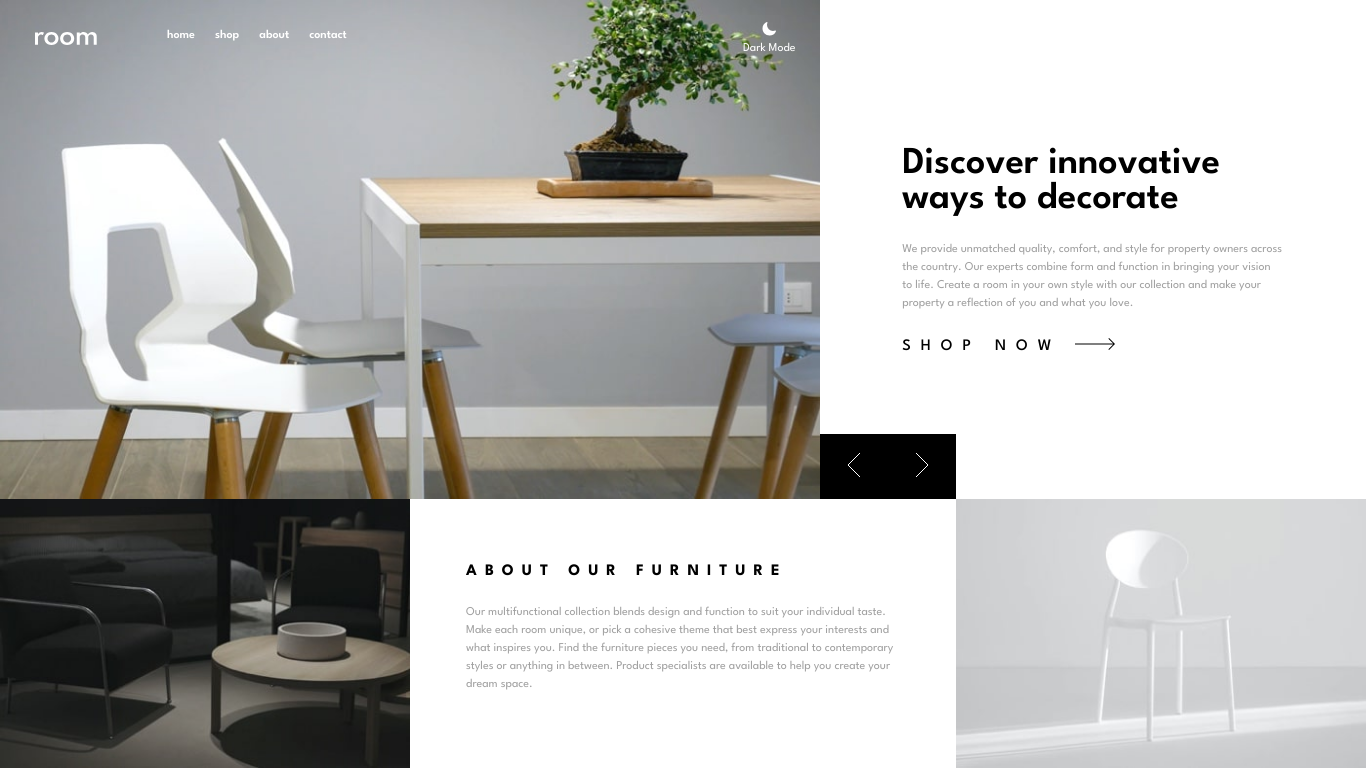
Test case: hero images changes on event › slider changes background image when next and previous buttons are clicked
Expected: the picture with alt text "right arrow" is shown, left=915, top=453, right=929, bottom=477
Expected: the picture with alt text "left arrow" is shown, left=847, top=453, right=861, bottom=477
Click the 3rd button with alt text "right arrow" at (922, 467), box left=888, top=434, right=956, bottom=499
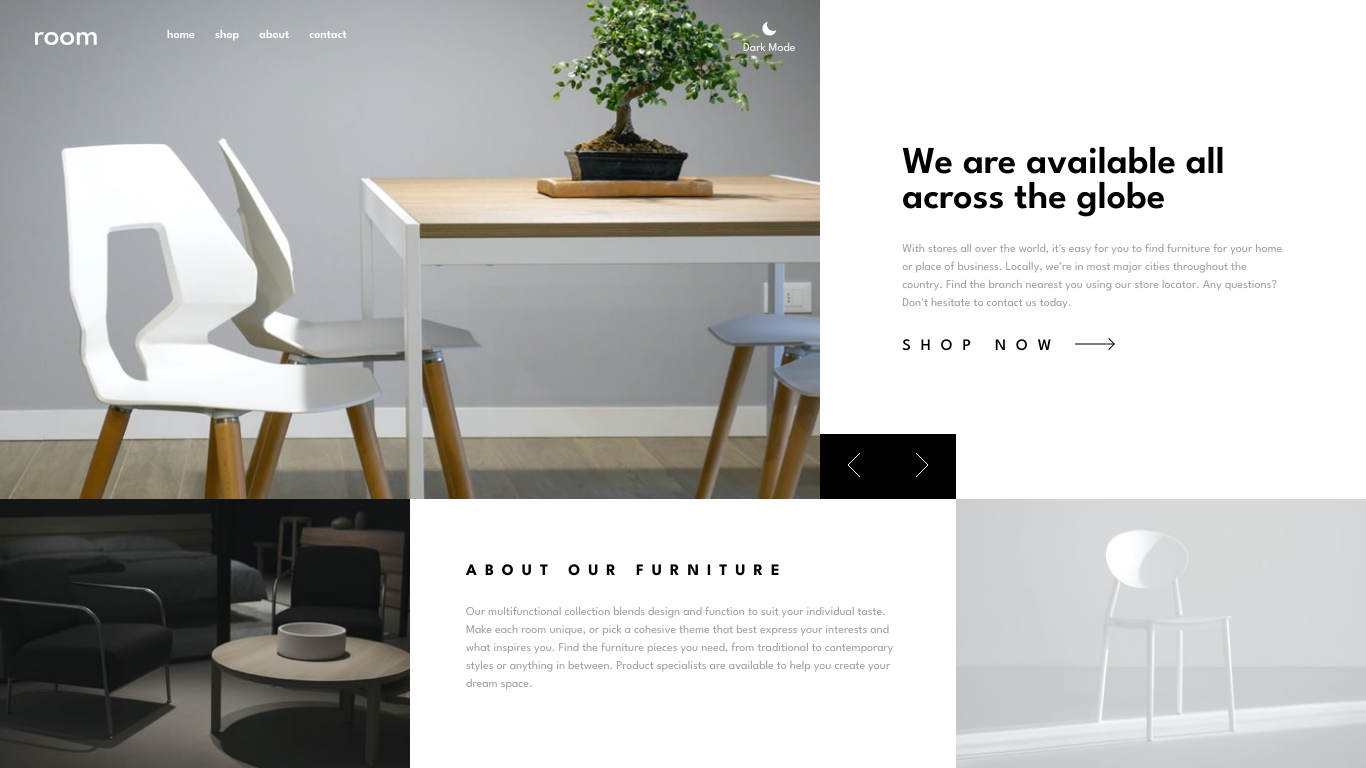
Expected: the heading with test id "heading" reads "We are available all across the globe", left=902, top=146, right=1225, bottom=216
Click the 3rd button with alt text "right arrow" at (922, 467), box left=888, top=434, right=956, bottom=499
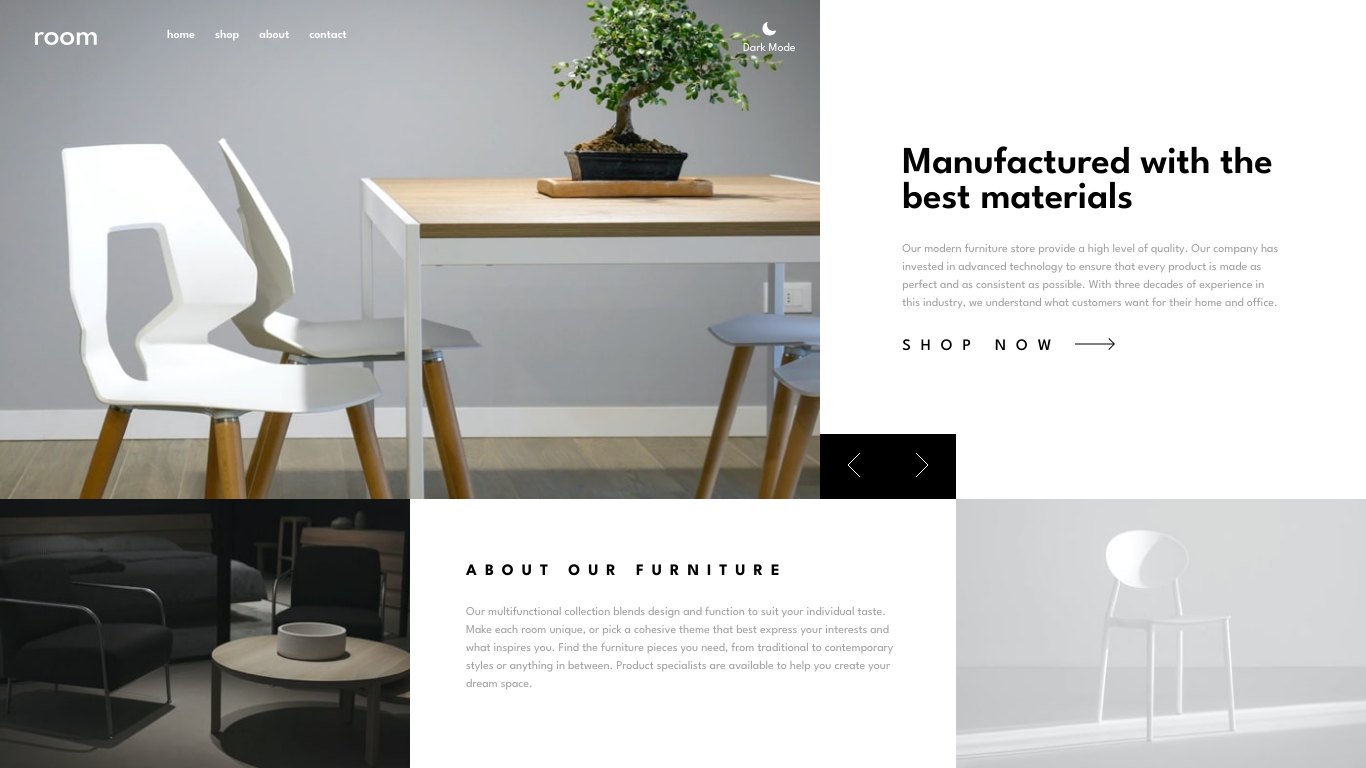
Expected: the heading with test id "heading" reads "Manufactured with the best materials", left=902, top=146, right=1273, bottom=216
Click the 3rd button with alt text "right arrow" at (922, 467), box left=888, top=434, right=956, bottom=499
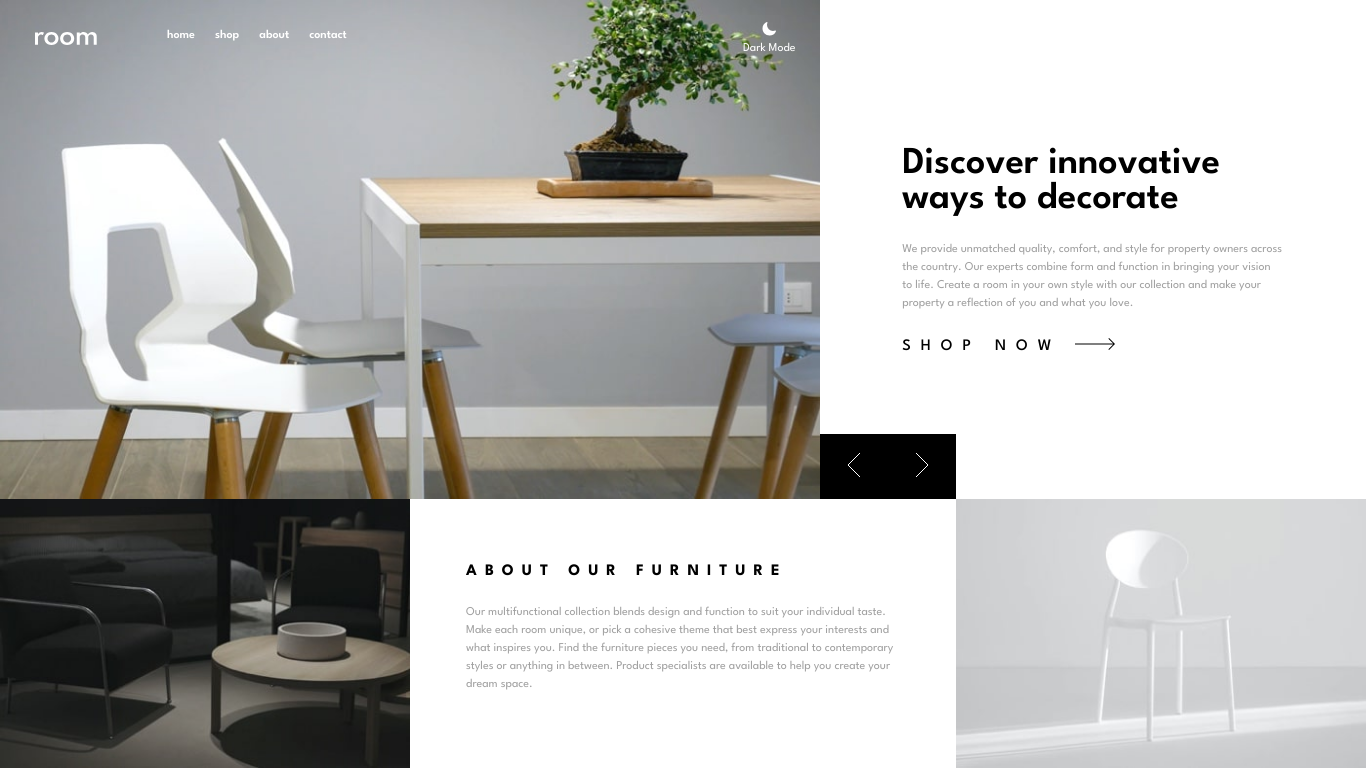
Expected: the heading with test id "heading" reads "Discover innovative ways to decorate", left=902, top=146, right=1220, bottom=216
Click the 2nd button with alt text "left arrow" at (854, 467), box left=820, top=434, right=888, bottom=499
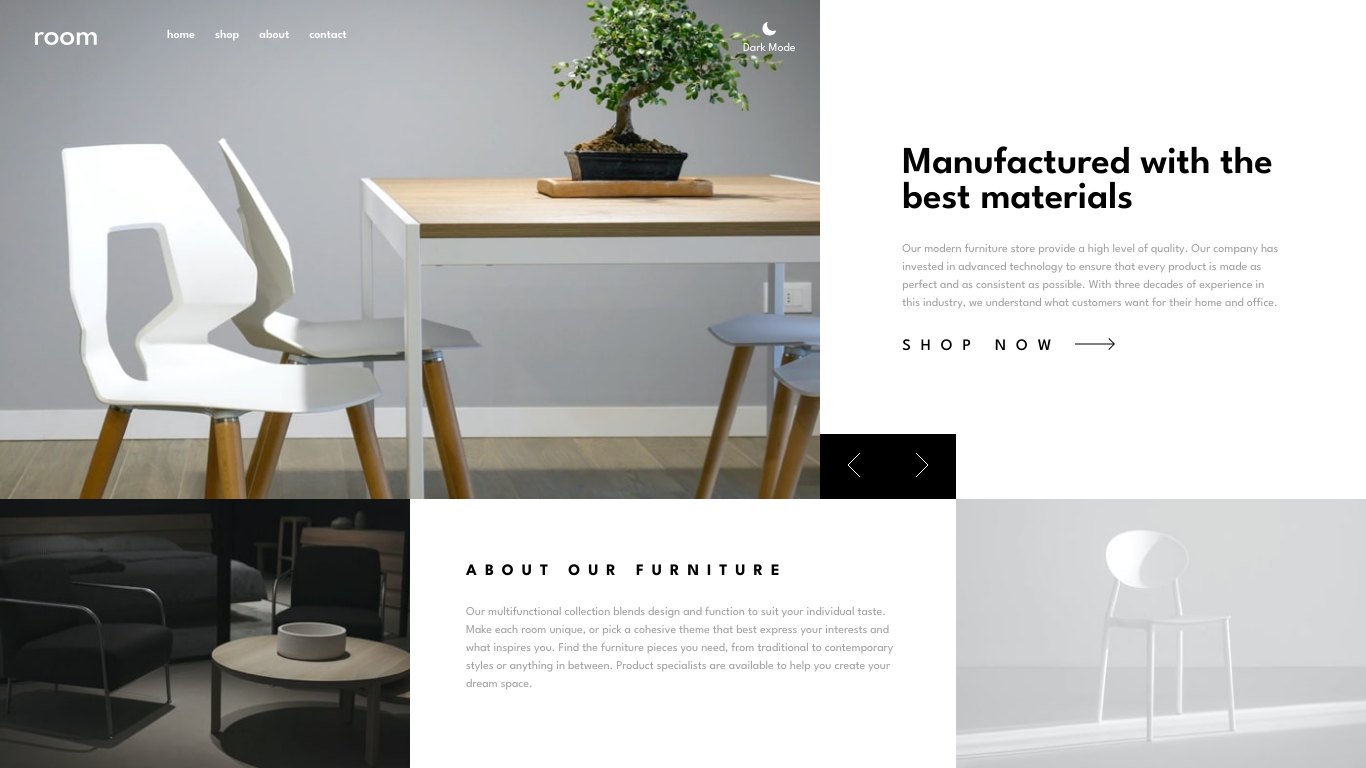
Expected: the heading with test id "heading" reads "Manufactured with the best materials", left=902, top=146, right=1273, bottom=216
Click the 2nd button with alt text "left arrow" at (854, 467), box left=820, top=434, right=888, bottom=499
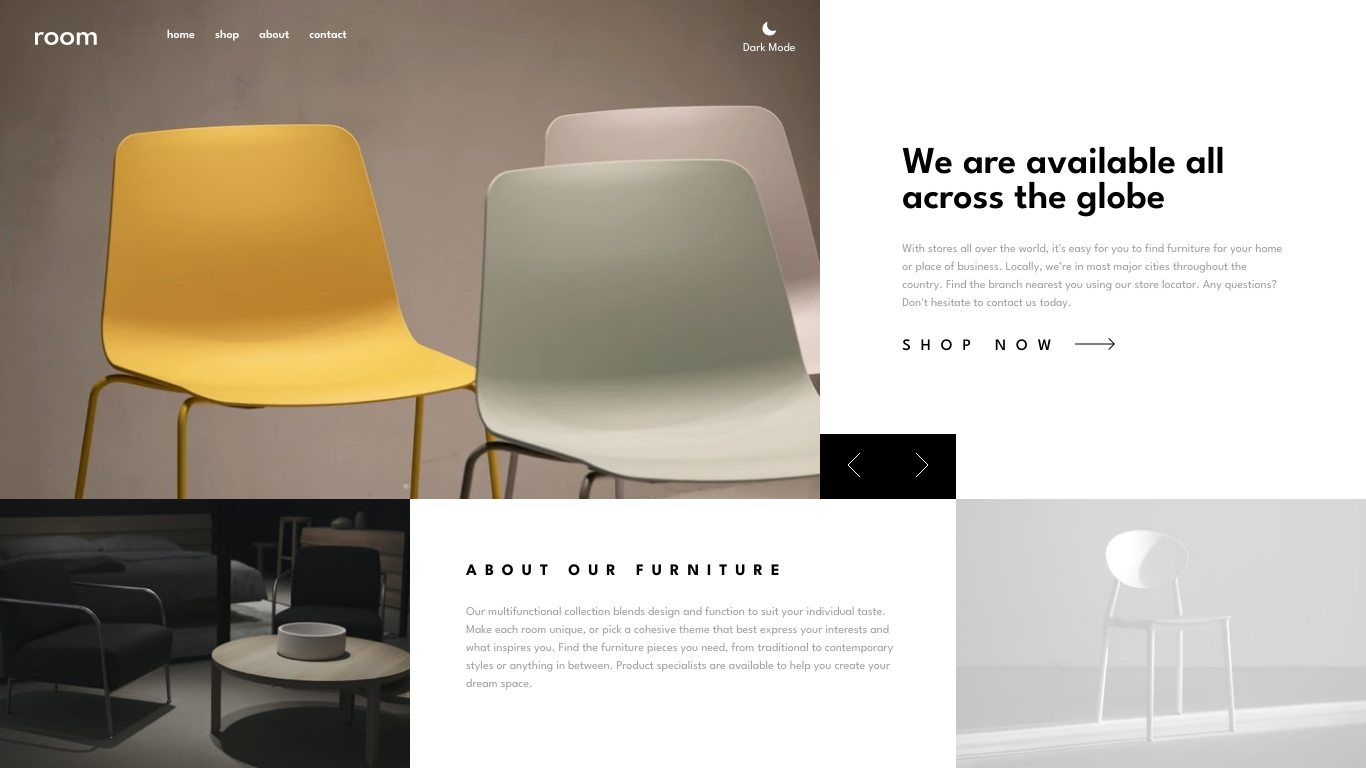
Expected: the heading with test id "heading" reads "We are available all across the globe", left=902, top=146, right=1225, bottom=216
